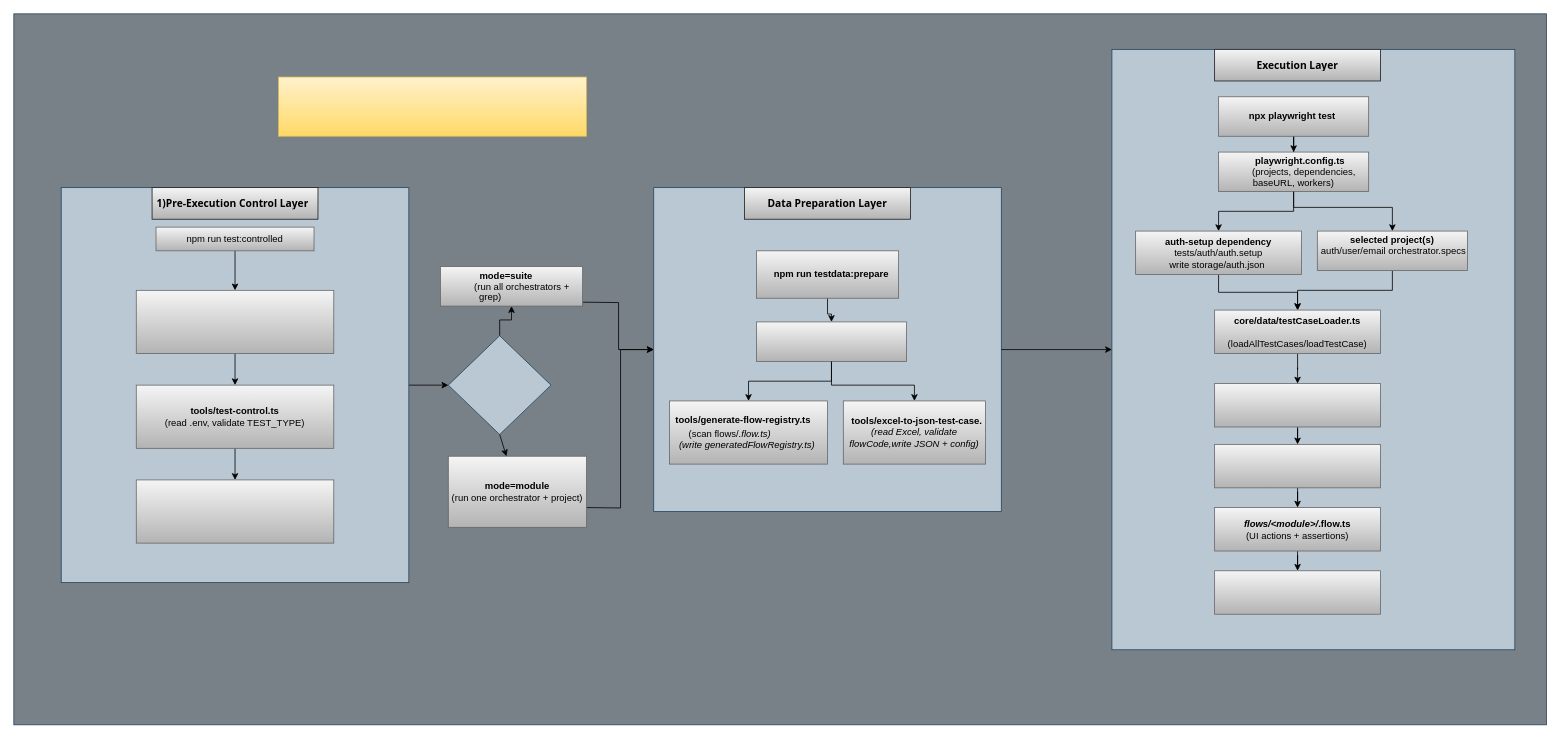
Some shapes in this 1560 by 739 pixel diagram are drawn without their labels. The centre of each missing label's shape, as x and y in pixels:
"core/flows/flowResolver.ts + generatedFlowRegistry.ts" goes at point (1297, 466).
"Execution mode" goes at point (499, 384).
"FRAMEWORK WORKFLOW" goes at point (432, 106).
"optional: npm run validate:framework (tools/validate-framework.ts)" goes at point (234, 511).
"package.json:scripts (test:controlled -> ts-node tools/test-control.ts)" goes at point (234, 322).
"Playwright report/artifacts" goes at point (1297, 592).
"tests / */* .orchestrator.spec.ts (iterate JSON cases, build tests)" goes at point (1297, 405).
"tools/ prepare-data.ts" goes at point (831, 341).
